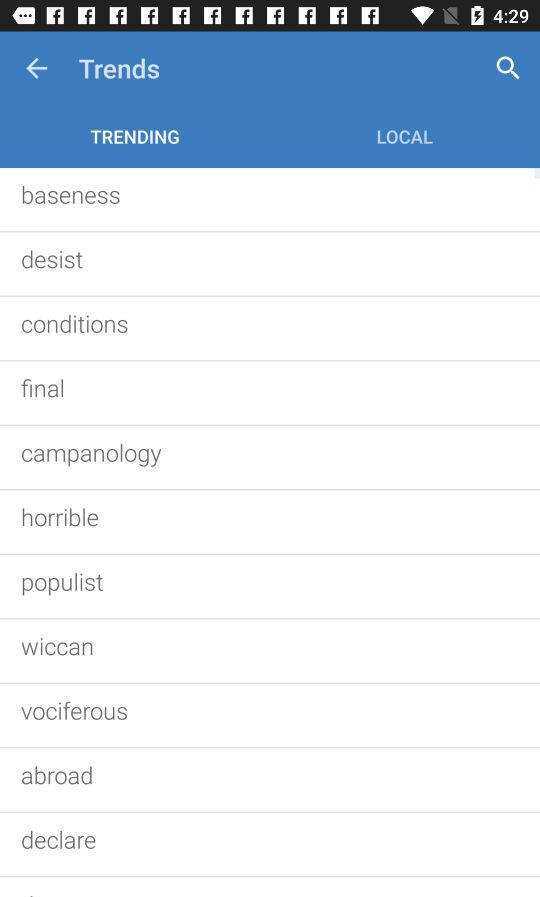Icon: (496, 56, 521, 81), (26, 58, 49, 81)
Text: (23, 443, 163, 468), (22, 701, 129, 721), (22, 315, 129, 335), (23, 573, 105, 597), (79, 57, 161, 81), (23, 186, 121, 206), (23, 507, 100, 528), (22, 829, 97, 850), (22, 765, 94, 786), (21, 637, 94, 657), (90, 130, 180, 146), (23, 250, 85, 270), (377, 129, 434, 146), (21, 378, 65, 399)
UpperTaskBar: (1, 1, 540, 33)
